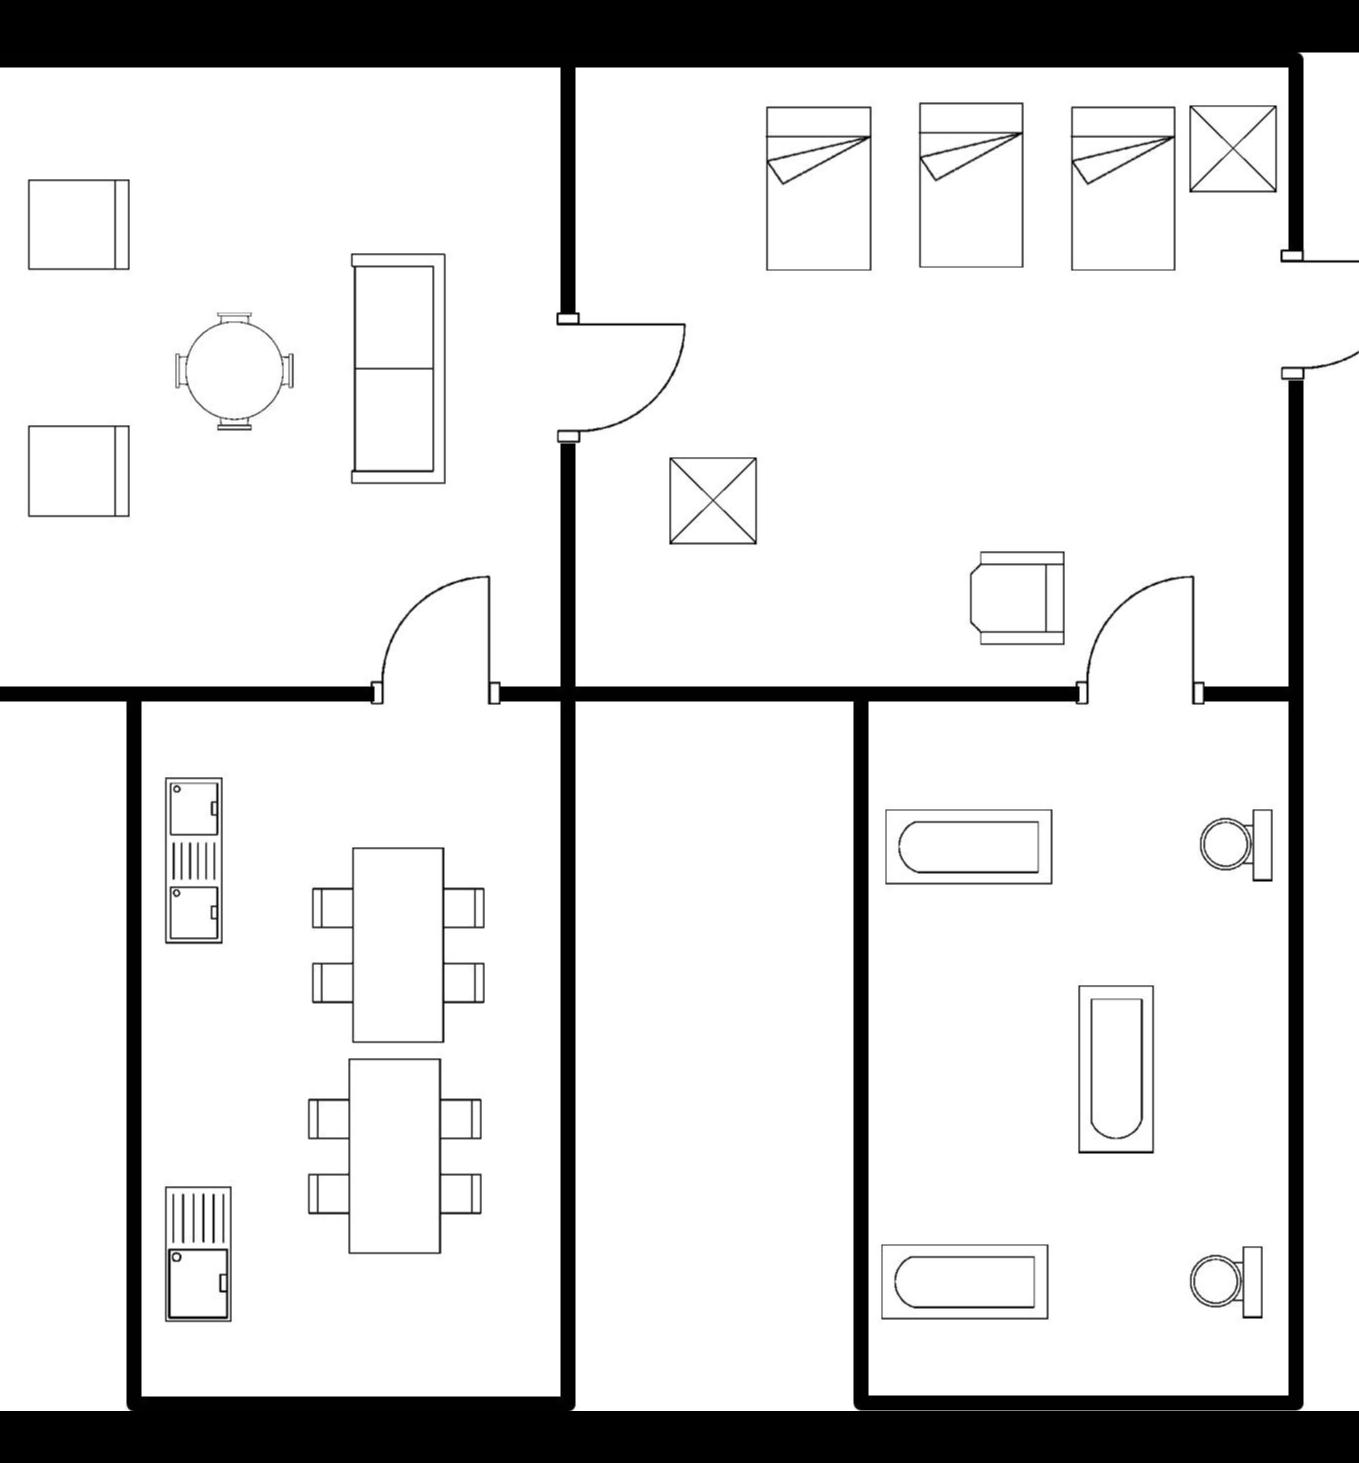sink: (155, 768, 234, 960)
